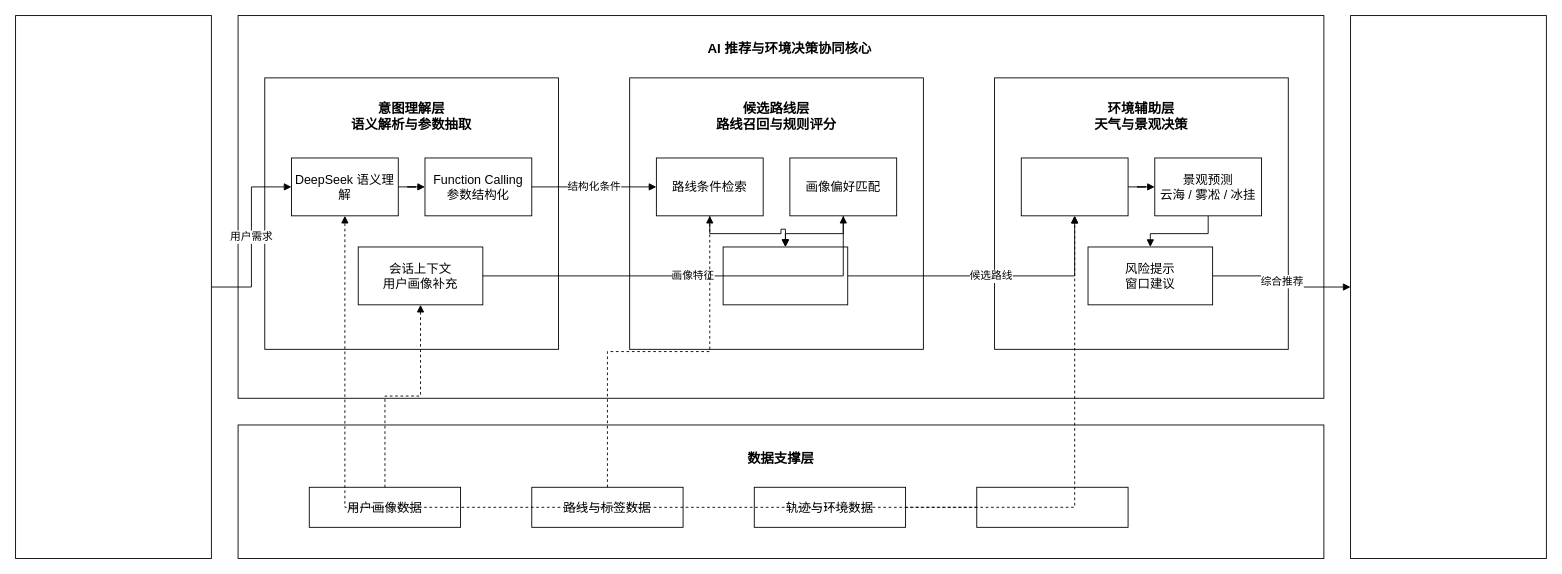
Some shapes in this 1562 by 574 pixel diagram are drawn without their labels. Each missing label, with the centre of its shape:
"AI 会话记录" belongs at [1052,506].
"天气查询 温度 / 降水 / 风速" belongs at [1074,186].
"推荐结果输出 路线卡片 推荐理由 出行窗口 追问建议" belongs at [1448,286].
"用户输入与画像 自然语言需求 用户偏好 出行时间 当前位置" belongs at [113,286].
"路线评分与排序" belongs at [785,275].
